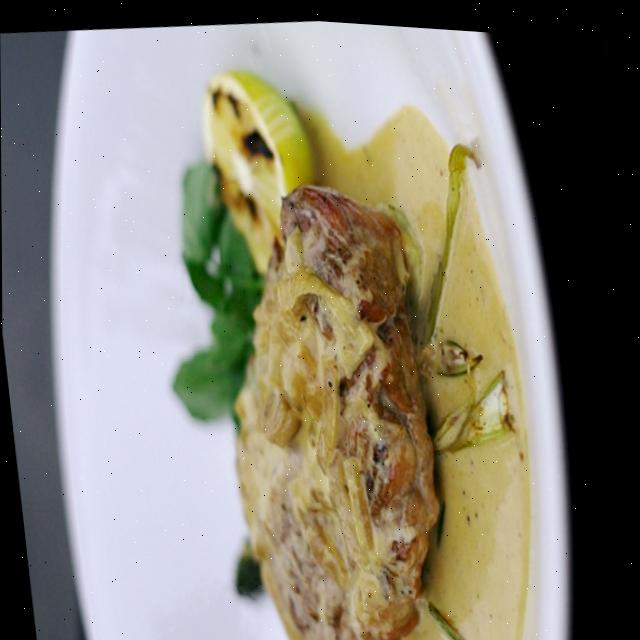猪肉菜式: (30, 2, 541, 640)
